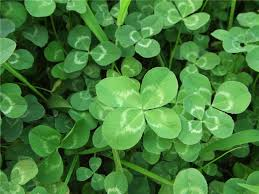4-clover: (95, 66, 183, 151)
